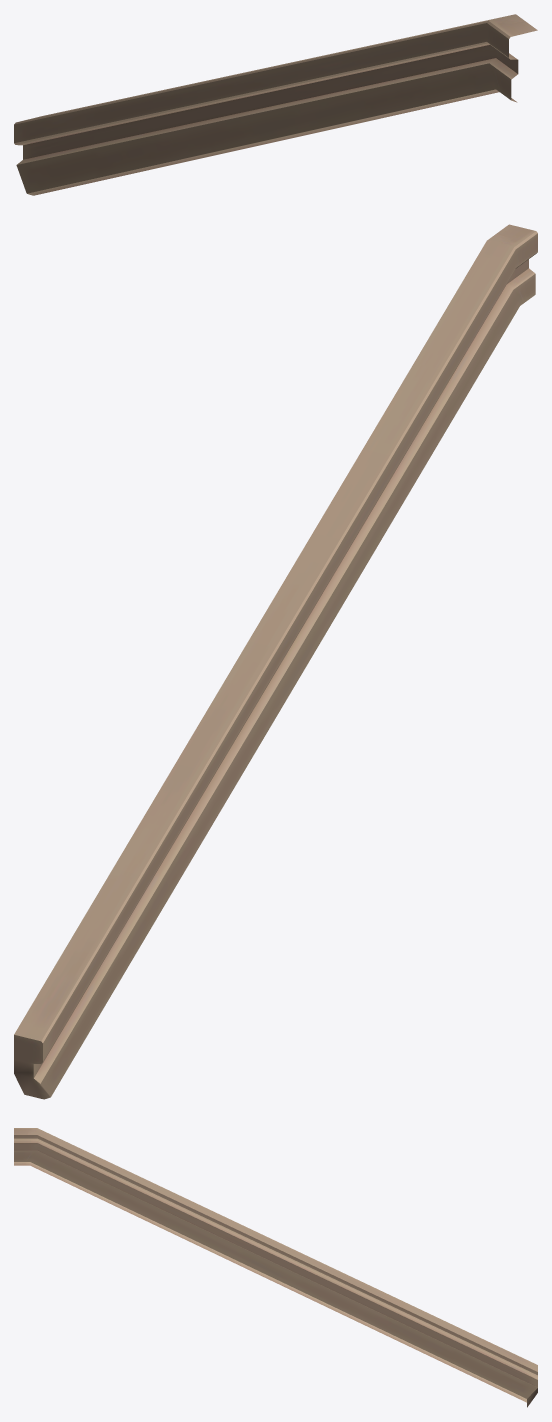
The model's file is wallPanel (3).fbx.
The picture shows the model from 3 angles, top to bottom: view 1: azimuth 30°, elevation 25°; view 2: azimuth 150°, elevation 25°; view 3: azimuth 270°, elevation 25°; orthographic projection. The views are drawn at different scales.
Parts seen in each view (by area): view 1: wallPanel (3); view 2: wallPanel (3); view 3: wallPanel (3).
Part boxes in pixels (x1,y1,x2,y2): wallPanel (3): [14, 14, 537, 195]; wallPanel (3): [14, 224, 537, 1099]; wallPanel (3): [14, 1128, 537, 1407].
Size of the model in its own units: 0.8093 by 13.79 by 24.
1 material, 1 textured.
